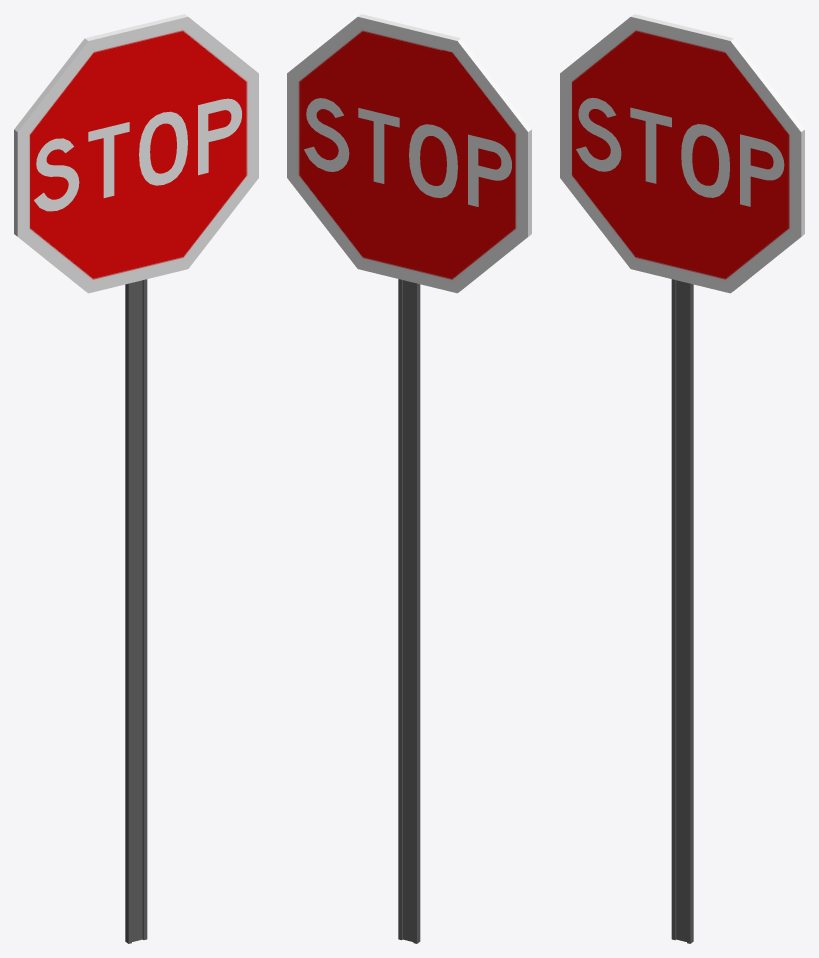
Rendered from stop_sign.glb.
3 views of the same model, side by side, from view 1: azimuth 30°, elevation 25°; view 2: azimuth 150°, elevation 25°; view 3: azimuth 330°, elevation 25° (orthographic).
Parts seen in each view (by area): view 1: SignBoard, Stand, Stop1; view 2: SignBoard, Stand, Stop; view 3: SignBoard, Stand, Stop1.
Boxes of the visible parts, <box> form: SignBoard: <box>14,14,258,293</box>; Stand: <box>125,279,147,943</box>; Stop1: <box>34,98,241,211</box>; SignBoard: <box>287,14,531,293</box>; Stand: <box>398,279,420,943</box>; Stop: <box>304,98,511,206</box>; SignBoard: <box>560,14,804,293</box>; Stand: <box>671,279,693,943</box>; Stop1: <box>576,98,784,206</box>.
Bounding box in the file's own units: 1.19 × 4.31 × 0.0336.
Materials: 1 (1 with a texture image).
